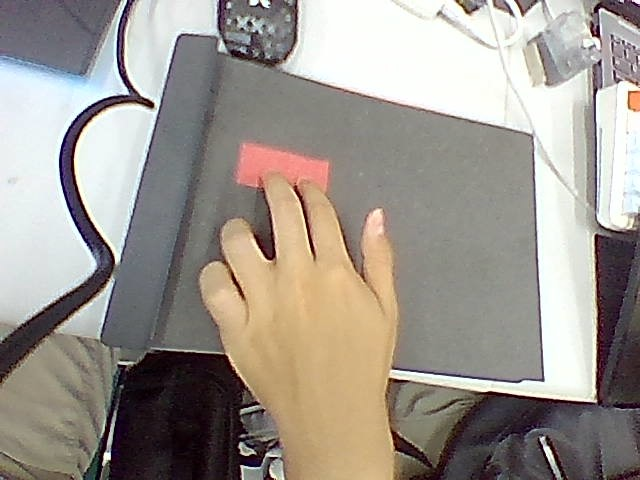card: (235, 143, 329, 189)
